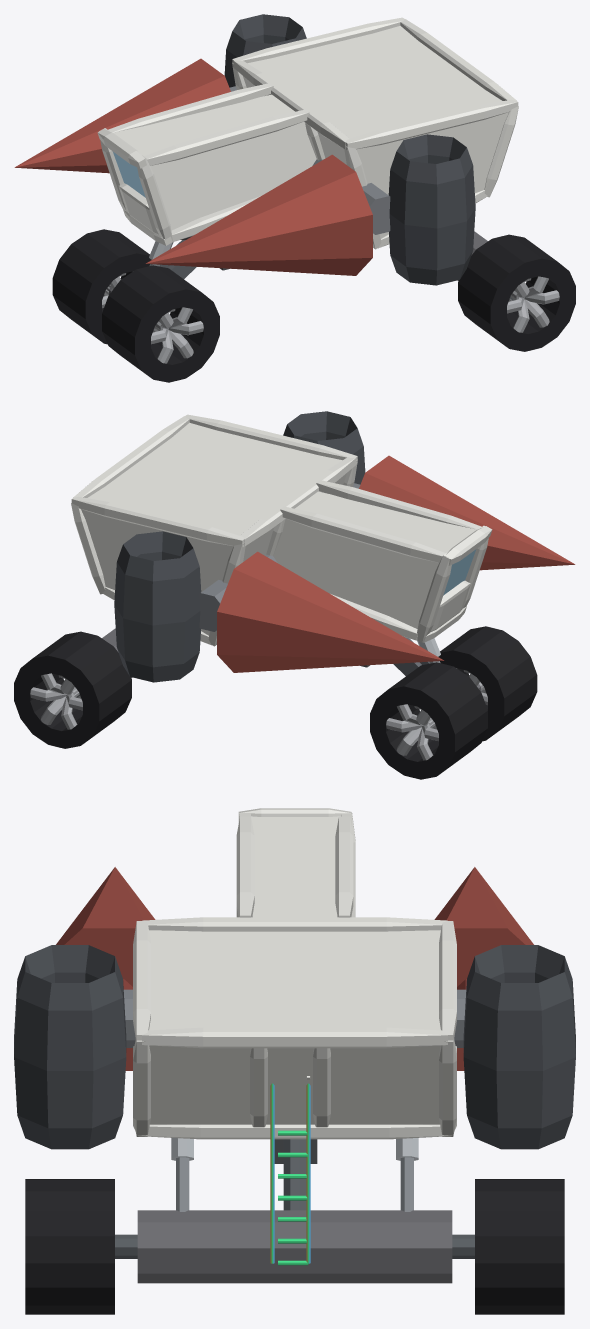
Rendered from digger1.glb.
The picture shows the model from 3 angles, top to bottom: view 1: azimuth 30°, elevation 25°; view 2: azimuth 150°, elevation 25°; view 3: azimuth 270°, elevation 25°; orthographic projection. The views are drawn at different scales.
Parts seen in each view (by area): view 1: chassis, tube (×3), cone (×2), beveled_cuboid (×13), torus (×2), cylinder; view 2: chassis, tube (×3), cone (×2), beveled_cuboid (×13), torus (×2), cylinder; view 3: chassis, torus (×2), cylinder (×8), beveled_cuboid (×12), tube (×2), cone (×2).
Part boxes in pixels (x1,y1,x2,y2): chassis: (112, 25, 508, 270); tube (×3): (52, 229, 575, 382); cone (×2): (14, 58, 372, 275); beveled_cuboid (×13): (97, 17, 518, 249); torus (×2): (224, 14, 475, 285); cylinder: (229, 86, 390, 234); chassis: (81, 422, 476, 667); tube (×3): (14, 626, 537, 779); cone (×2): (217, 455, 575, 672); beveled_cuboid (×13): (71, 414, 492, 646); torus (×2): (114, 411, 365, 682); cylinder: (199, 483, 360, 631); chassis: (149, 816, 440, 1163); torus (×2): (14, 945, 575, 1149); cylinder (×8): (115, 989, 474, 1283); beveled_cuboid (×12): (133, 808, 456, 1139); tube (×2): (25, 1179, 564, 1314); cone (×2): (56, 867, 533, 1070).
Size of the model in its own units: 0.875 by 0.4547 by 0.7812.
26 materials, 26 textured.
